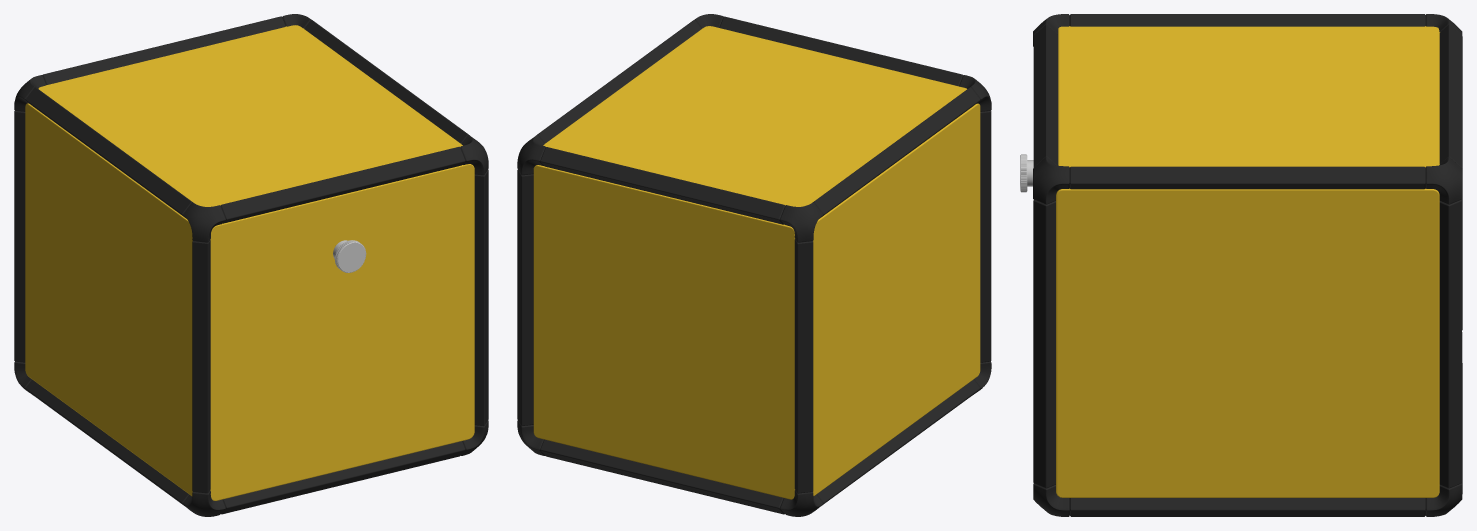
3 renders of one model, left to right at view 1: azimuth 30°, elevation 25°; view 2: azimuth 150°, elevation 25°; view 3: azimuth 270°, elevation 25°, orthographic. The views are drawn at different scales.
Parts seen in each view (by area): view 1: 329x374x329; view 2: 329x374x329; view 3: 329x374x329.
Part boxes in pixels (left/top/right/bottom): 329x374x329: left=14, top=14, right=488, bottom=516; 329x374x329: left=517, top=14, right=991, bottom=516; 329x374x329: left=1020, top=14, right=1462, bottom=516.
Bounding box in the file's own units: 0.4068 × 0.4065 × 0.4646.
